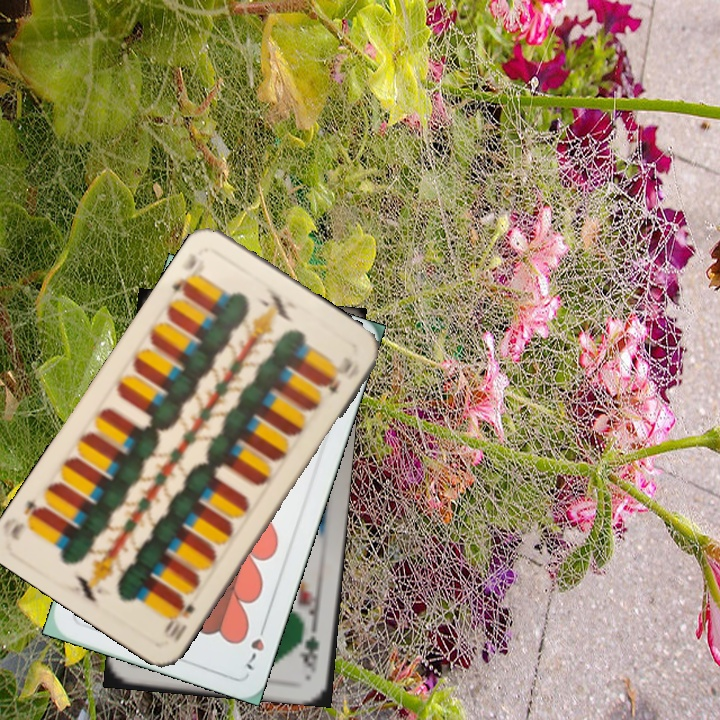E10: (159, 595, 198, 644), (168, 249, 200, 299)
GK: (299, 620, 323, 676)
H7: (242, 617, 270, 673)
